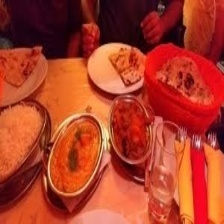rice: (0, 105, 48, 180)
